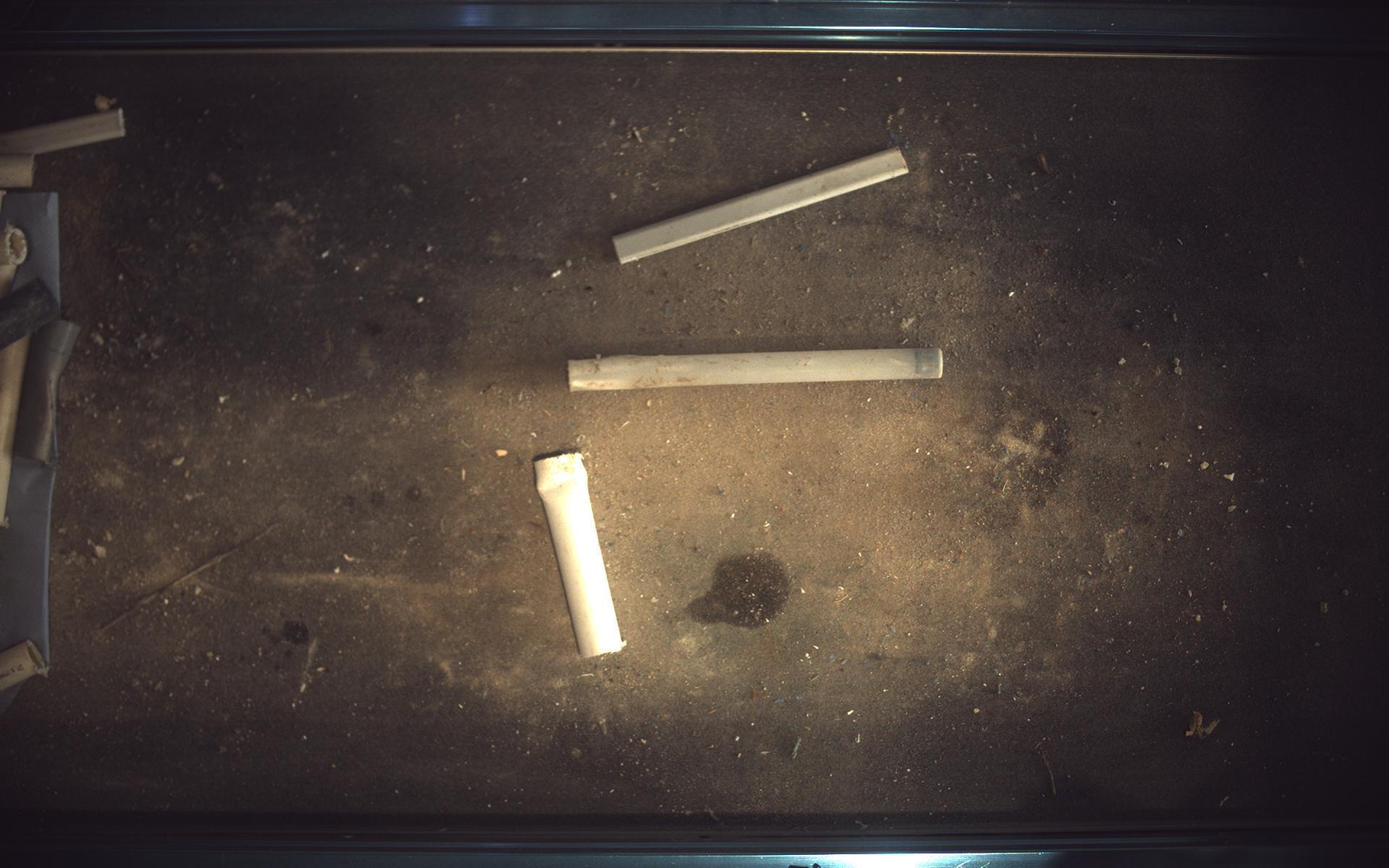pipes: (534, 450, 628, 658), (569, 347, 946, 391)
